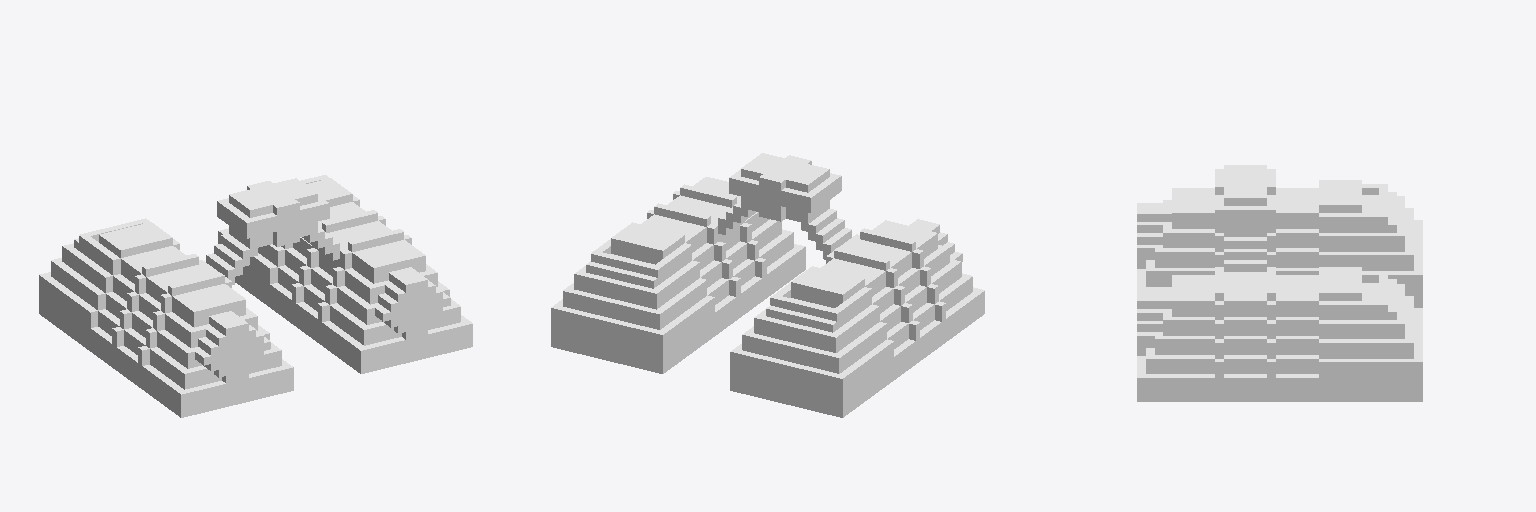
File: hover.obj
3 renders of one model, left to right at view 1: azimuth 30°, elevation 25°; view 2: azimuth 150°, elevation 25°; view 3: azimuth 270°, elevation 25°, orthographic.
Bounding box in the file's own units: 39 × 19 × 33.